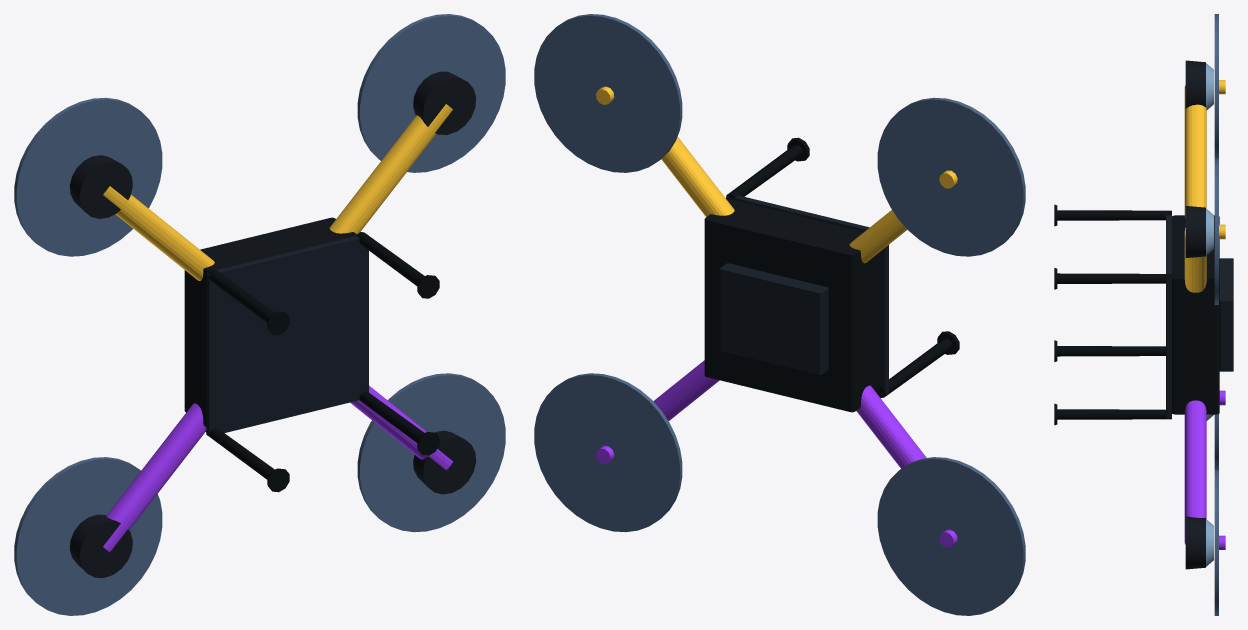
Rendered from px4_quadrotor.obj.
3 renders of one model, left to right at view 1: azimuth 30°, elevation 25°; view 2: azimuth 150°, elevation 25°; view 3: azimuth 270°, elevation 25°, orthographic. The views are drawn at different scales.
Visible parts, largest first — view 1: prop_grey_5, body_mid_1, motor_dark_3, yellow_metal_2, body_dark_0, leg_dark_7, purple_metal_6; view 2: prop_grey_5, body_dark_0, body_mid_1, purple_metal_6, yellow_metal_2, leg_dark_7; view 3: body_dark_0, leg_dark_7, yellow_metal_2, motor_dark_3, purple_metal_6, body_mid_1, prop_grey_5, motor_silver_4.
Boxes of the visible parts, box(x1,y1,x2,y2) form: prop_grey_5: box(14, 14, 505, 615); body_mid_1: box(206, 236, 368, 436); motor_dark_3: box(69, 71, 476, 577); yellow_metal_2: box(103, 104, 452, 280); body_dark_0: box(184, 217, 356, 426); leg_dark_7: box(206, 232, 439, 492); purple_metal_6: box(103, 385, 452, 552); prop_grey_5: box(534, 14, 1025, 615); body_dark_0: box(704, 200, 879, 412); body_mid_1: box(720, 194, 888, 395); purple_metal_6: box(596, 360, 957, 547); yellow_metal_2: box(596, 86, 957, 263); leg_dark_7: box(726, 137, 959, 397); body_dark_0: box(1172, 215, 1219, 414); leg_dark_7: box(1054, 204, 1171, 425); yellow_metal_2: box(1184, 80, 1225, 292); motor_dark_3: box(1185, 60, 1205, 569); purple_metal_6: box(1184, 390, 1225, 549); body_mid_1: box(1166, 215, 1233, 418); prop_grey_5: box(1214, 14, 1218, 615); motor_silver_4: box(1206, 63, 1213, 566).
Bounding box in the file's own units: 0.6687 × 0.6687 × 0.2457.
